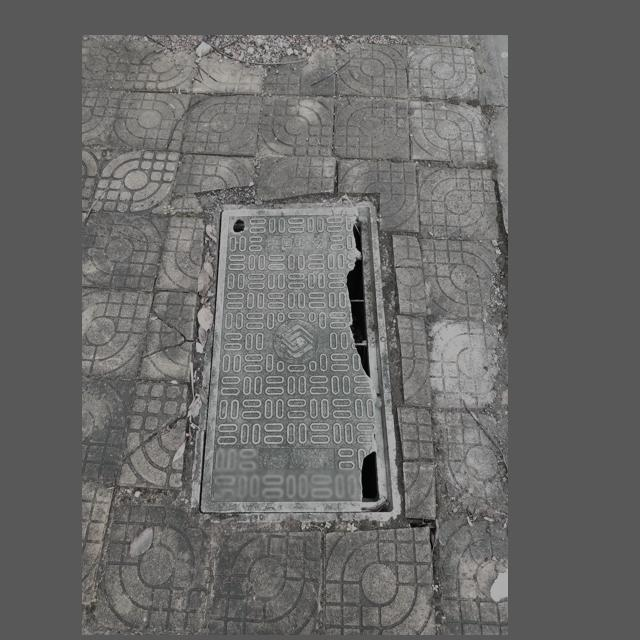broke: (199, 202, 403, 526)
